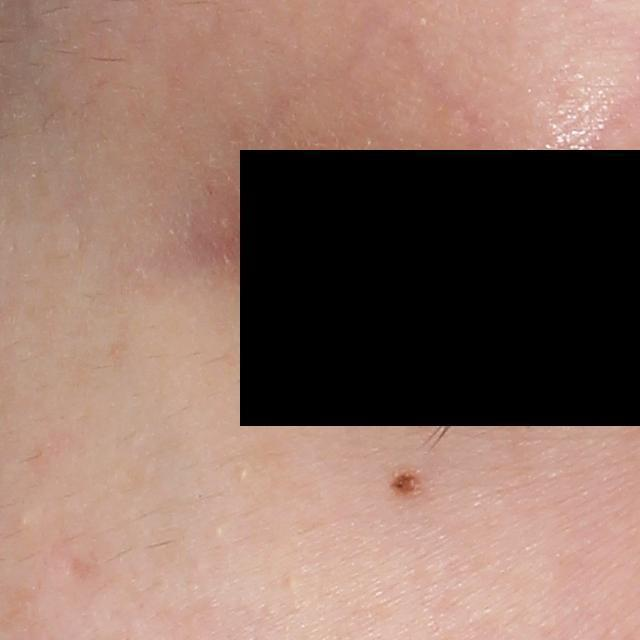nevus: (386, 465, 428, 499)
